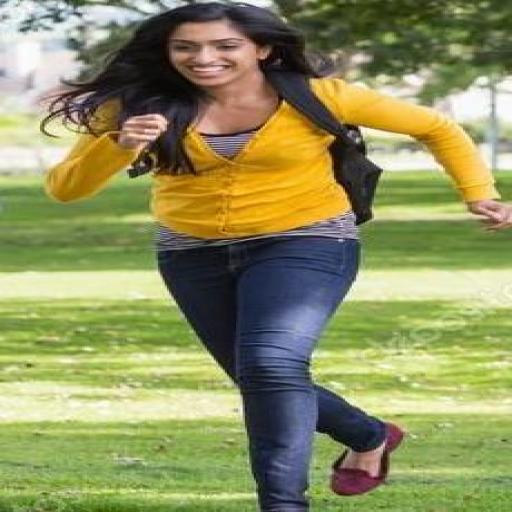person: (45, 3, 511, 511)
